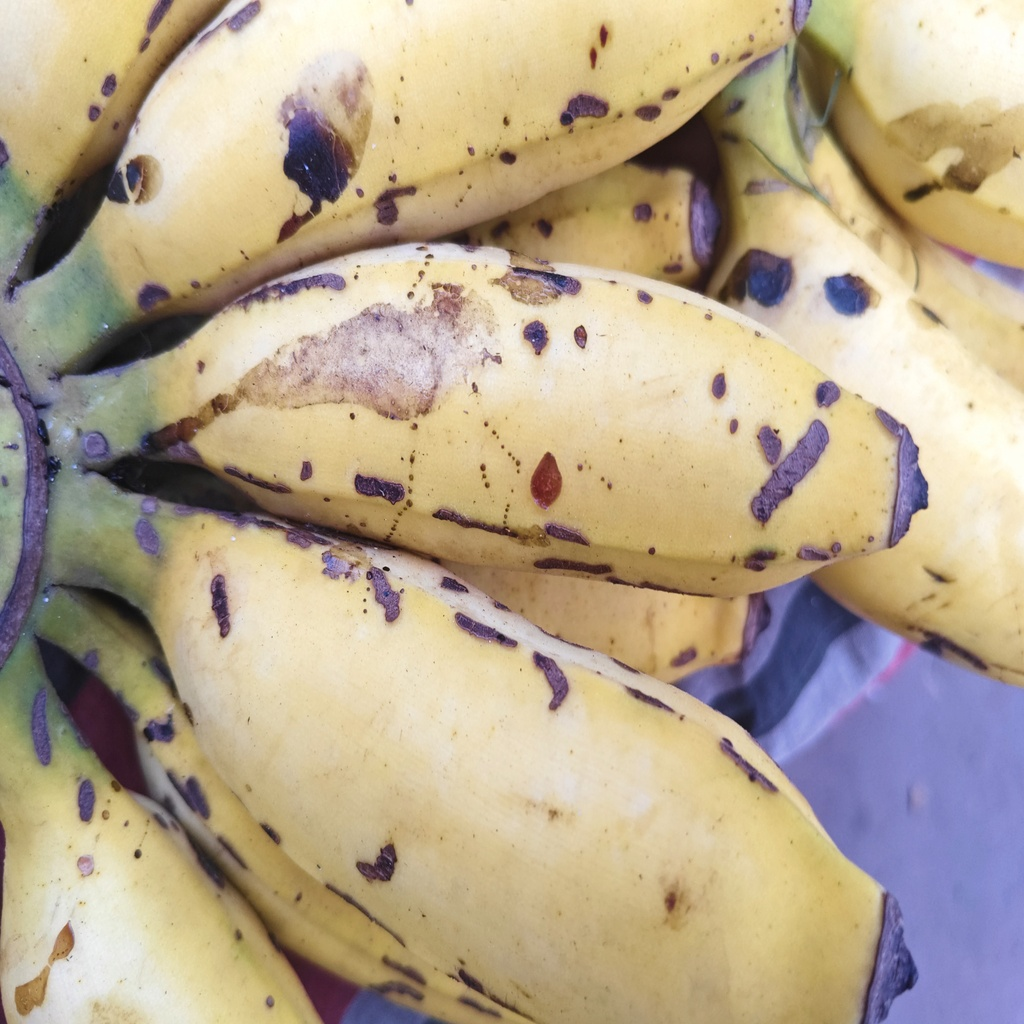unhealthy: (163, 510, 914, 1024), (222, 243, 901, 597)
